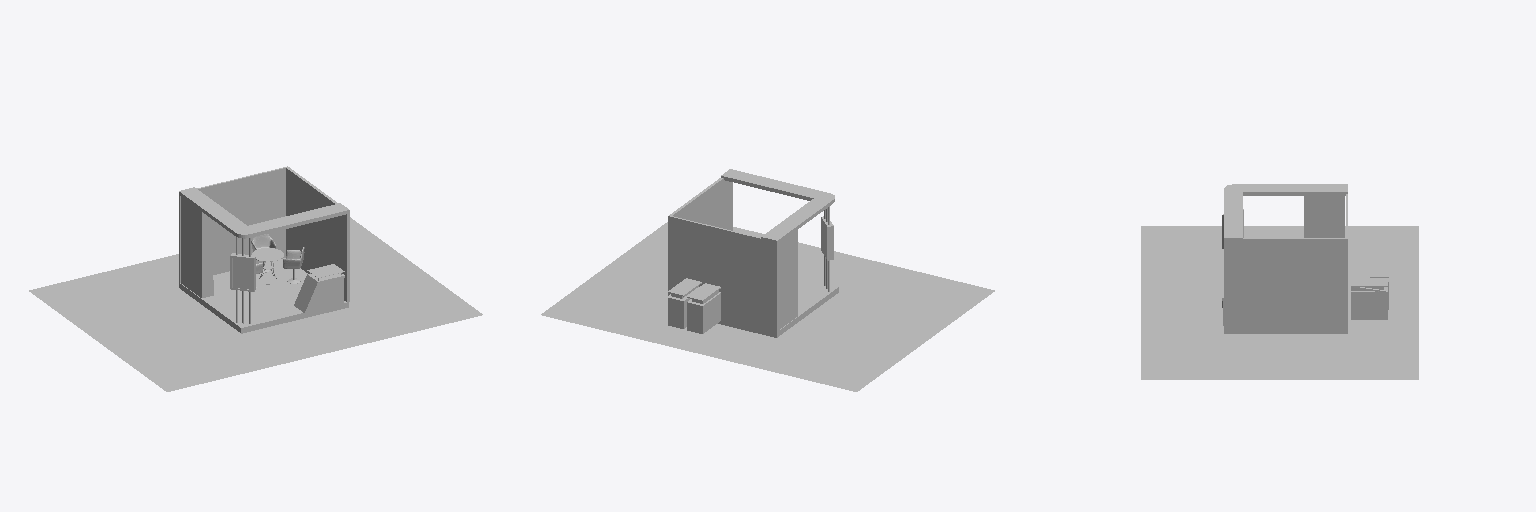
The model's file is stall1.obj.
The picture shows the model from 3 angles: view 1: azimuth 30°, elevation 25°; view 2: azimuth 150°, elevation 25°; view 3: azimuth 270°, elevation 25°; orthographic projection.
Parts seen in each view (by area): view 1: Plane041, Box003, Box001, Box183, Box016, Box181, Box188, Box180; view 2: Plane041, Box003, Box181, Box183, Box016, Box001, L_Ext014, L_Ext015; view 3: Plane041, Box190, Box181, Box016, L_Ext015, Box001.
Part boxes in pixels (x1,y1,x2,y2): Plane041: (29,217,482,391); Box003: (179,167,286,282); Box001: (179,258,348,333); Box183: (286,168,348,301); Box016: (181,197,212,297); Box181: (179,187,349,238); Box188: (294,273,344,312); Box180: (230,253,255,291); Plane041: (541,222,994,391); Box003: (669,216,777,332); Box181: (721,169,834,243); Box183: (671,178,732,230); Box016: (778,230,797,330); Box001: (718,277,838,337); L_Ext014: (687,283,720,333); L_Ext015: (668,278,701,328); Plane041: (1141,226,1418,379); Box190: (1224,239,1347,328); Box181: (1224,184,1347,238); Box016: (1304,196,1344,237); L_Ext015: (1351,278,1387,319); Box001: (1224,329,1347,333).
Bounding box in the file's own units: 354 × 108 × 269.